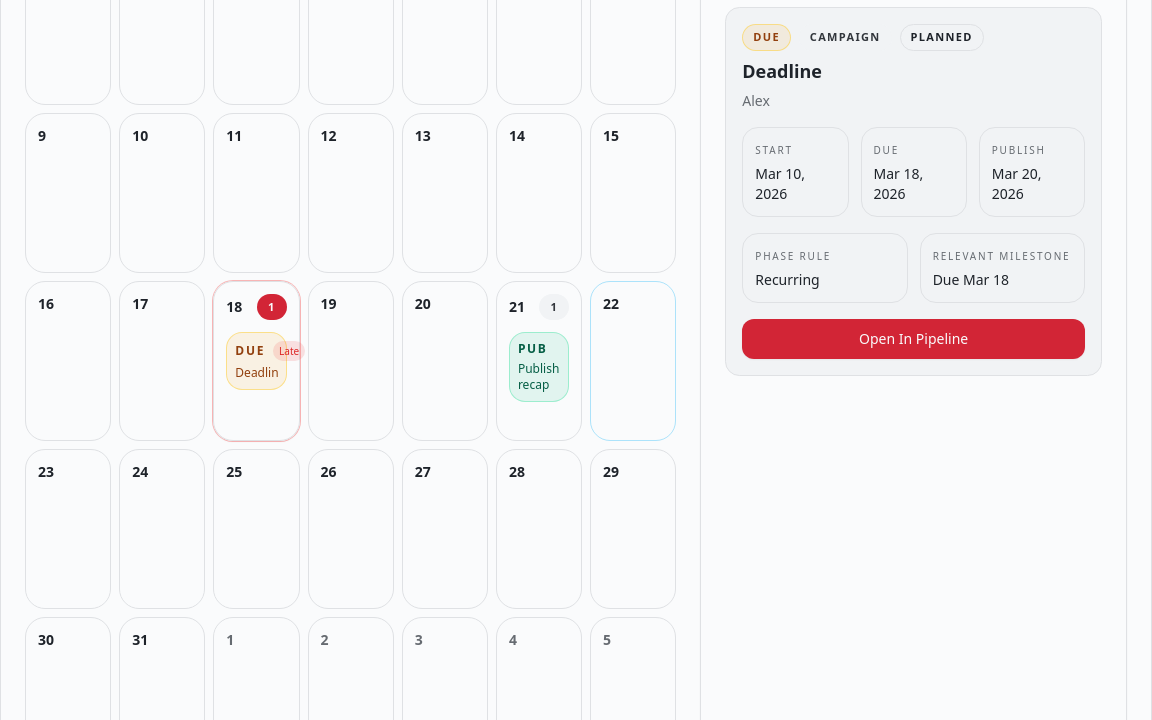
Test: CalendarGrid › updates the selected-day panel when a different day is selected
The width and height of the screenshot is (1152, 720).
(page scrolled)
Click the button with aria-label "Select March 21, 2026". click: coordinates (539, 360)
box: [496, 280, 582, 440]
(page scrolled)
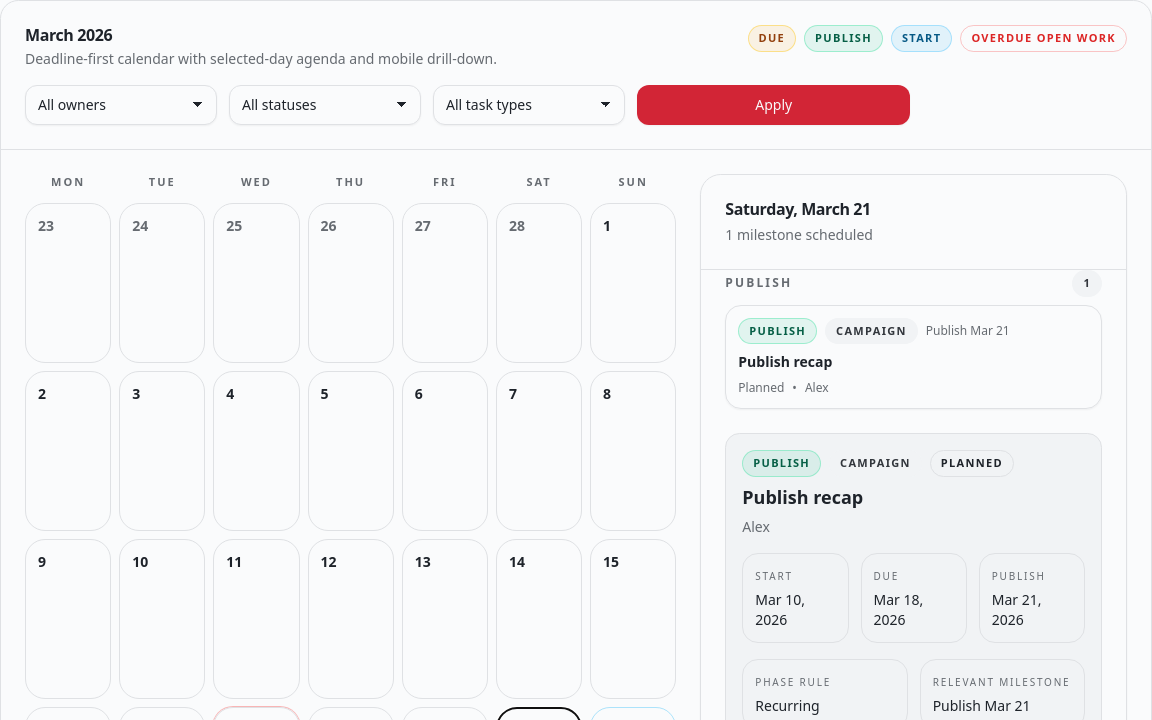
Check: the heading with test id "selected-day-title" reads "Saturday, March 21", box [725, 198, 871, 220]
